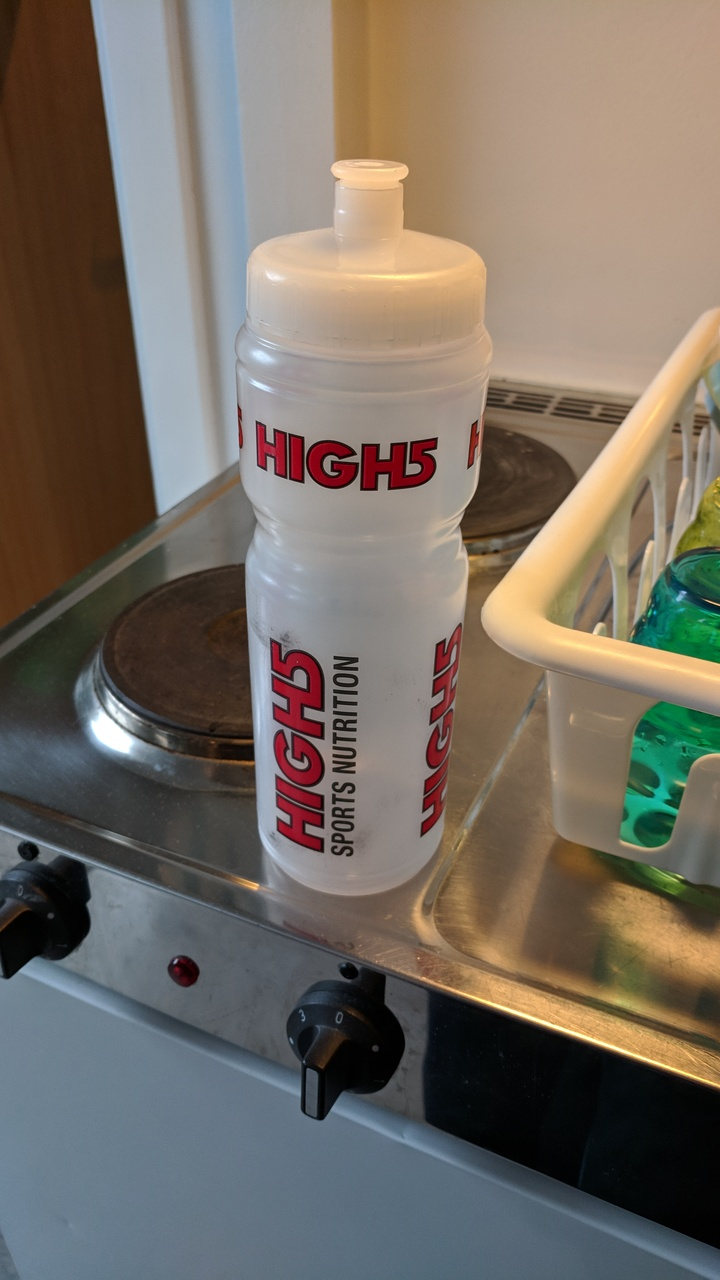high five bottle: (216, 151, 500, 889)
